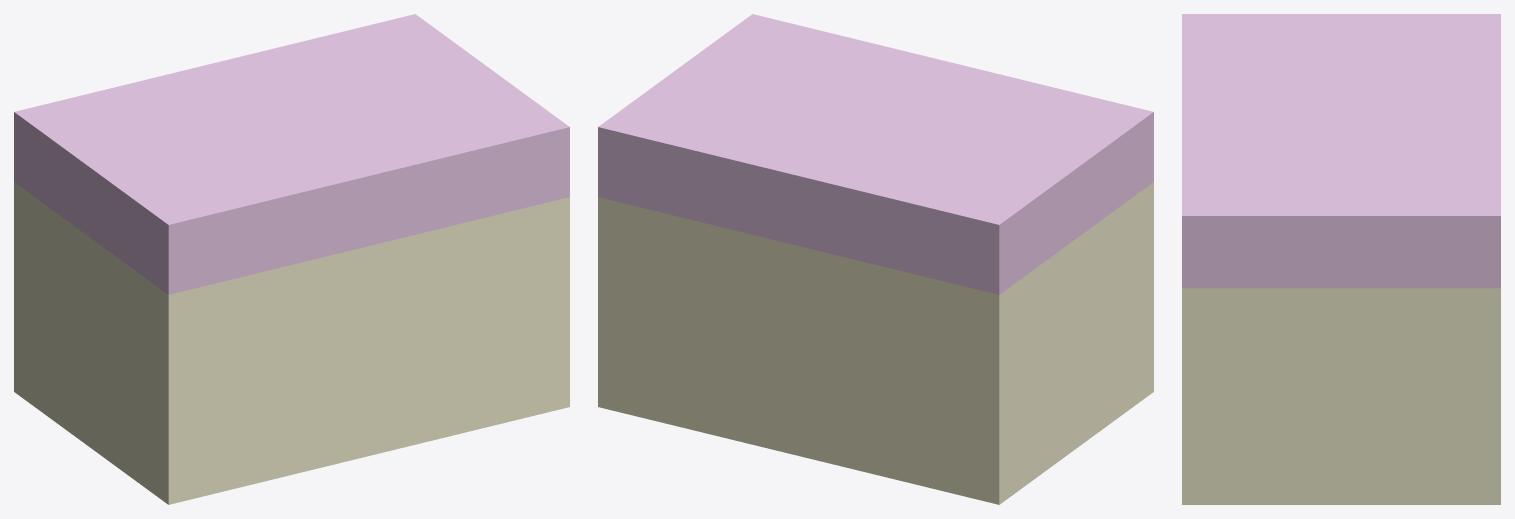
File: Trunk_Small.glb
3 renders of one model, left to right at view 1: azimuth 30°, elevation 25°; view 2: azimuth 150°, elevation 25°; view 3: azimuth 270°, elevation 25°, orthographic. The views are drawn at different scales.
Parts seen in each view (by area): view 1: Trunk Small; view 2: Trunk Small; view 3: Trunk Small.
Part boxes in pixels (left/top/right/bottom): Trunk Small: left=14, top=14, right=569, bottom=504; Trunk Small: left=598, top=14, right=1153, bottom=504; Trunk Small: left=1182, top=14, right=1500, bottom=504.
Size of the model in its own units: 0.6 by 0.4 by 0.4.
